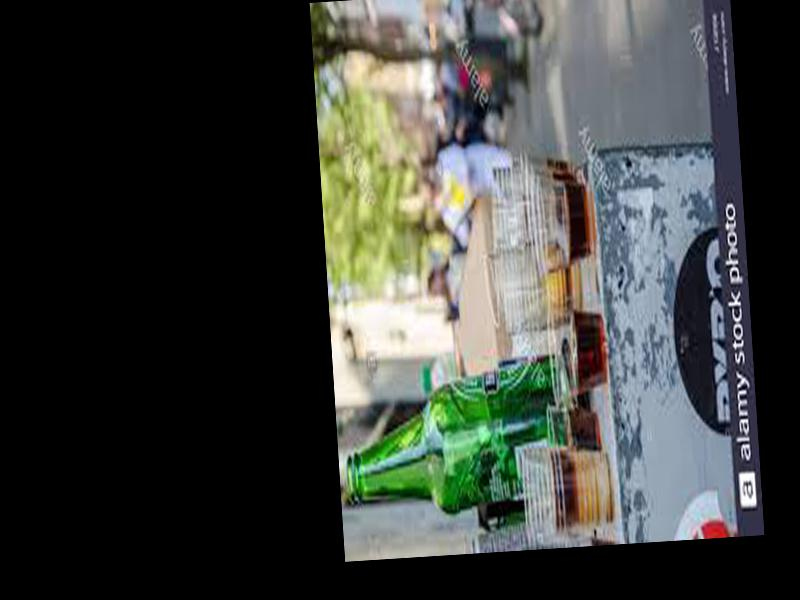Beer: (340, 349, 590, 523)
